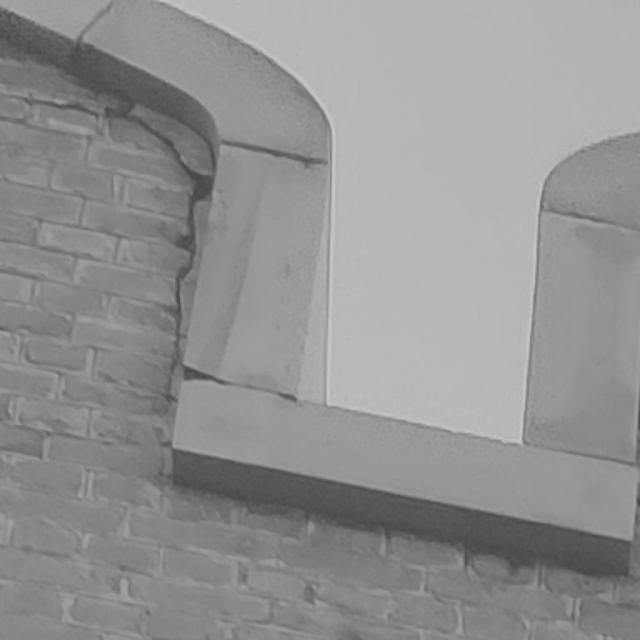crack: (104, 99, 216, 404)
